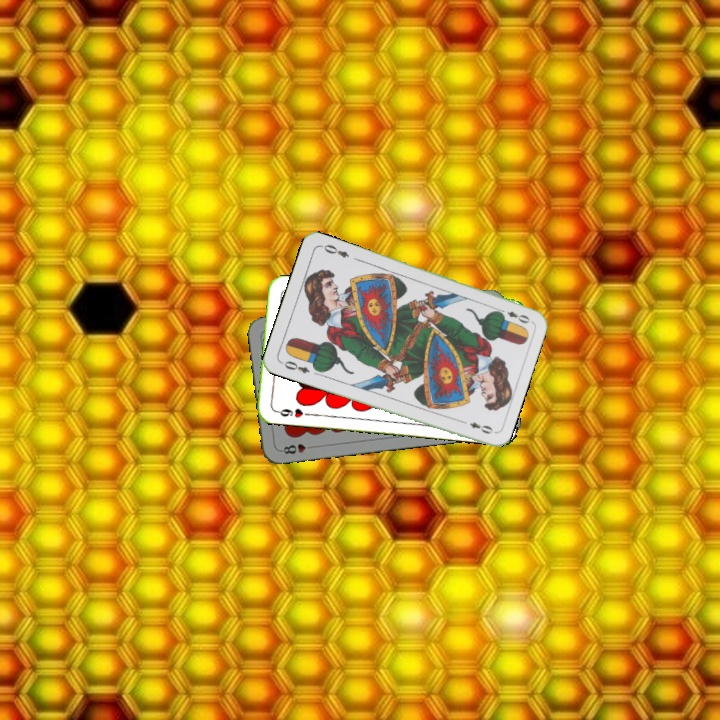EO: (494, 304, 532, 326), (277, 357, 312, 376)
H8: (277, 440, 317, 456)
H9: (271, 404, 312, 421)
